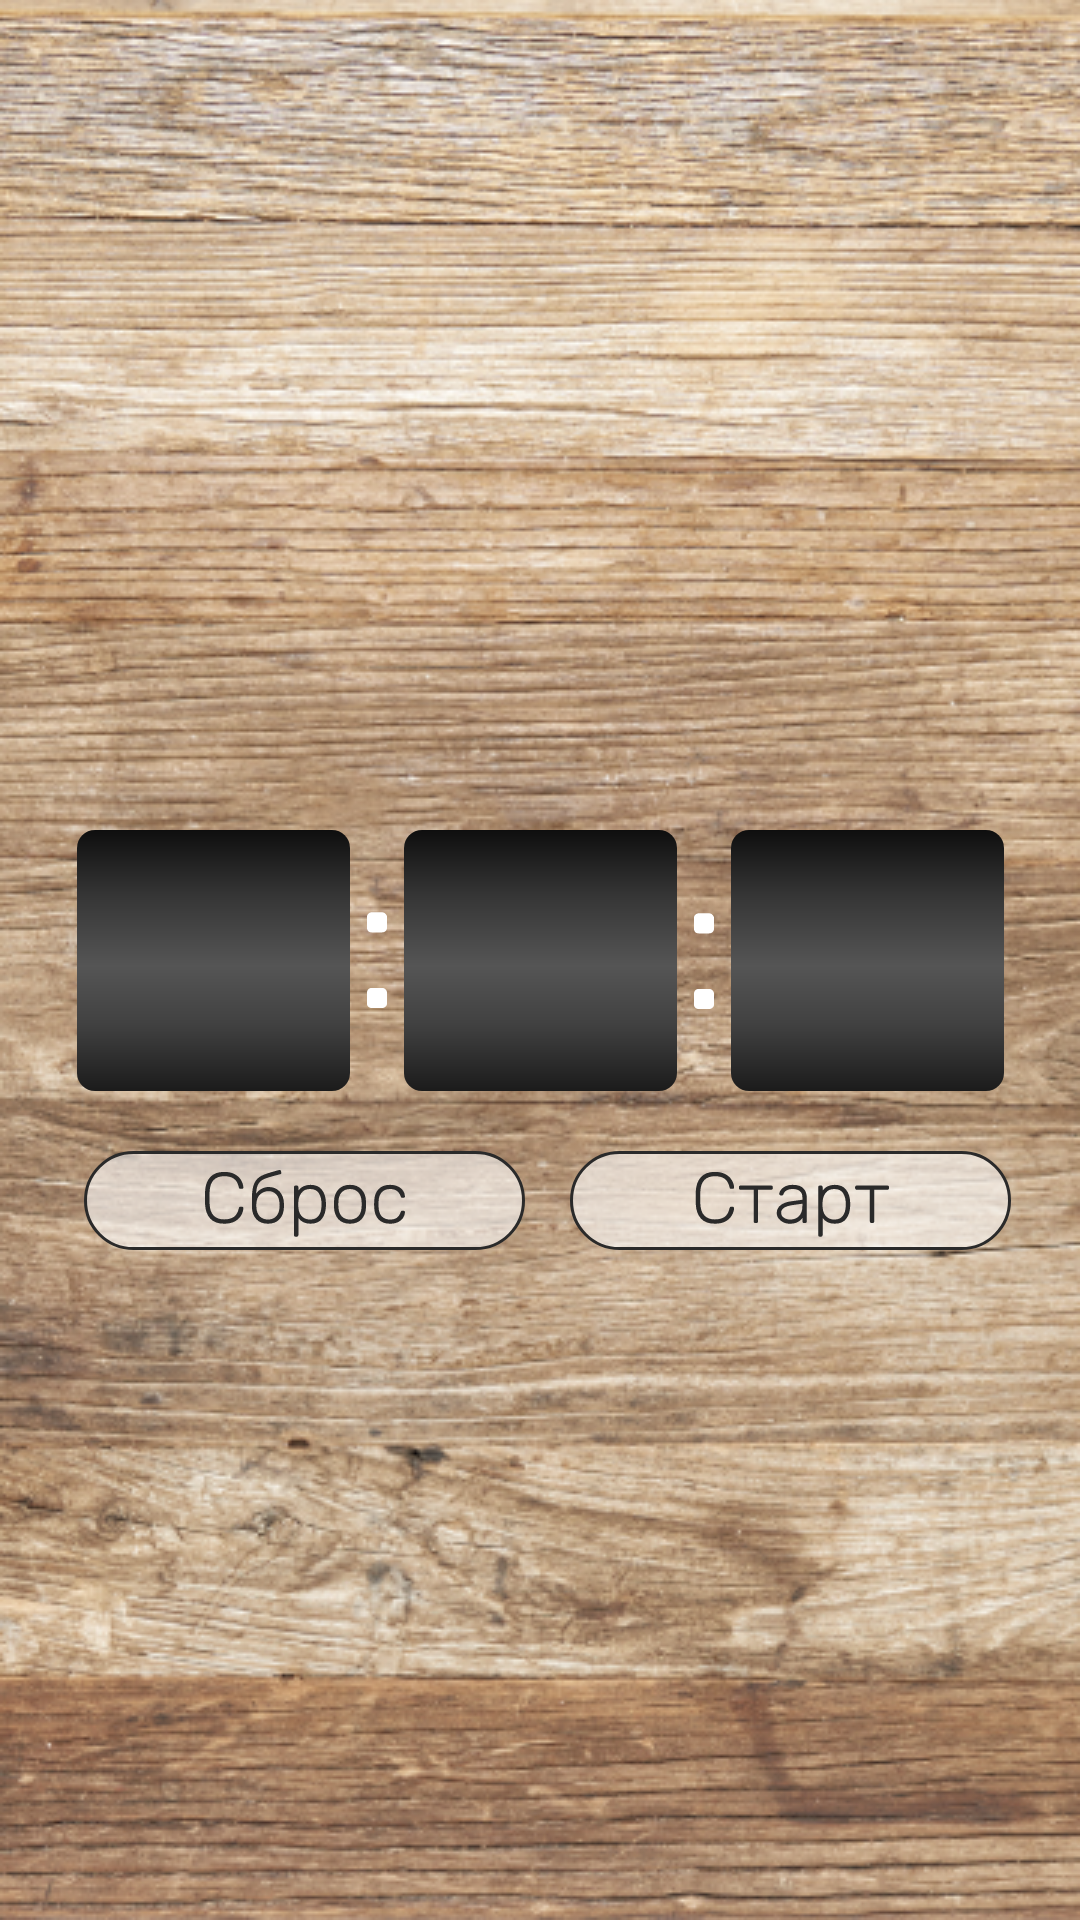

Screen size 1080×1920. Icon name, then its center in pixels as (x=x, y=y):
stopwatch colon: (x=377, y=960), (x=704, y=961)
